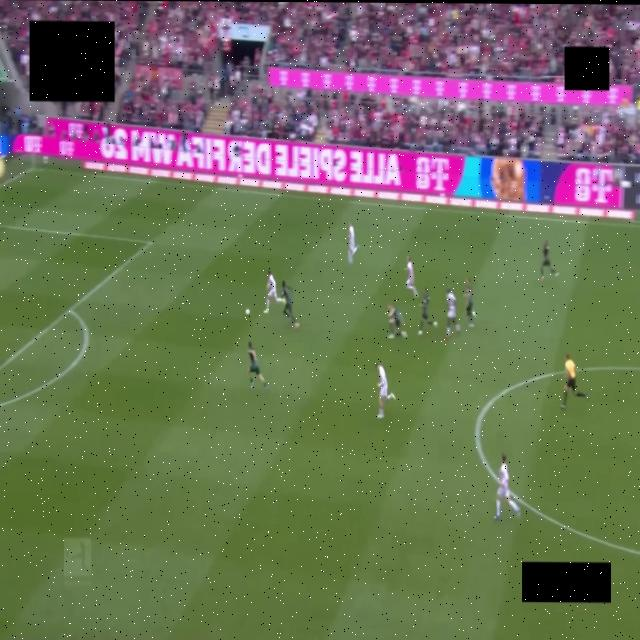ball: (245, 309, 249, 315)
player: (494, 454, 519, 520), (375, 363, 394, 418), (248, 342, 266, 389), (281, 281, 298, 329), (263, 270, 281, 313), (541, 240, 559, 282), (418, 288, 434, 335), (445, 288, 460, 338), (387, 303, 406, 338), (405, 256, 418, 298), (464, 277, 474, 328), (348, 223, 358, 265)
referee: (561, 354, 585, 409)
